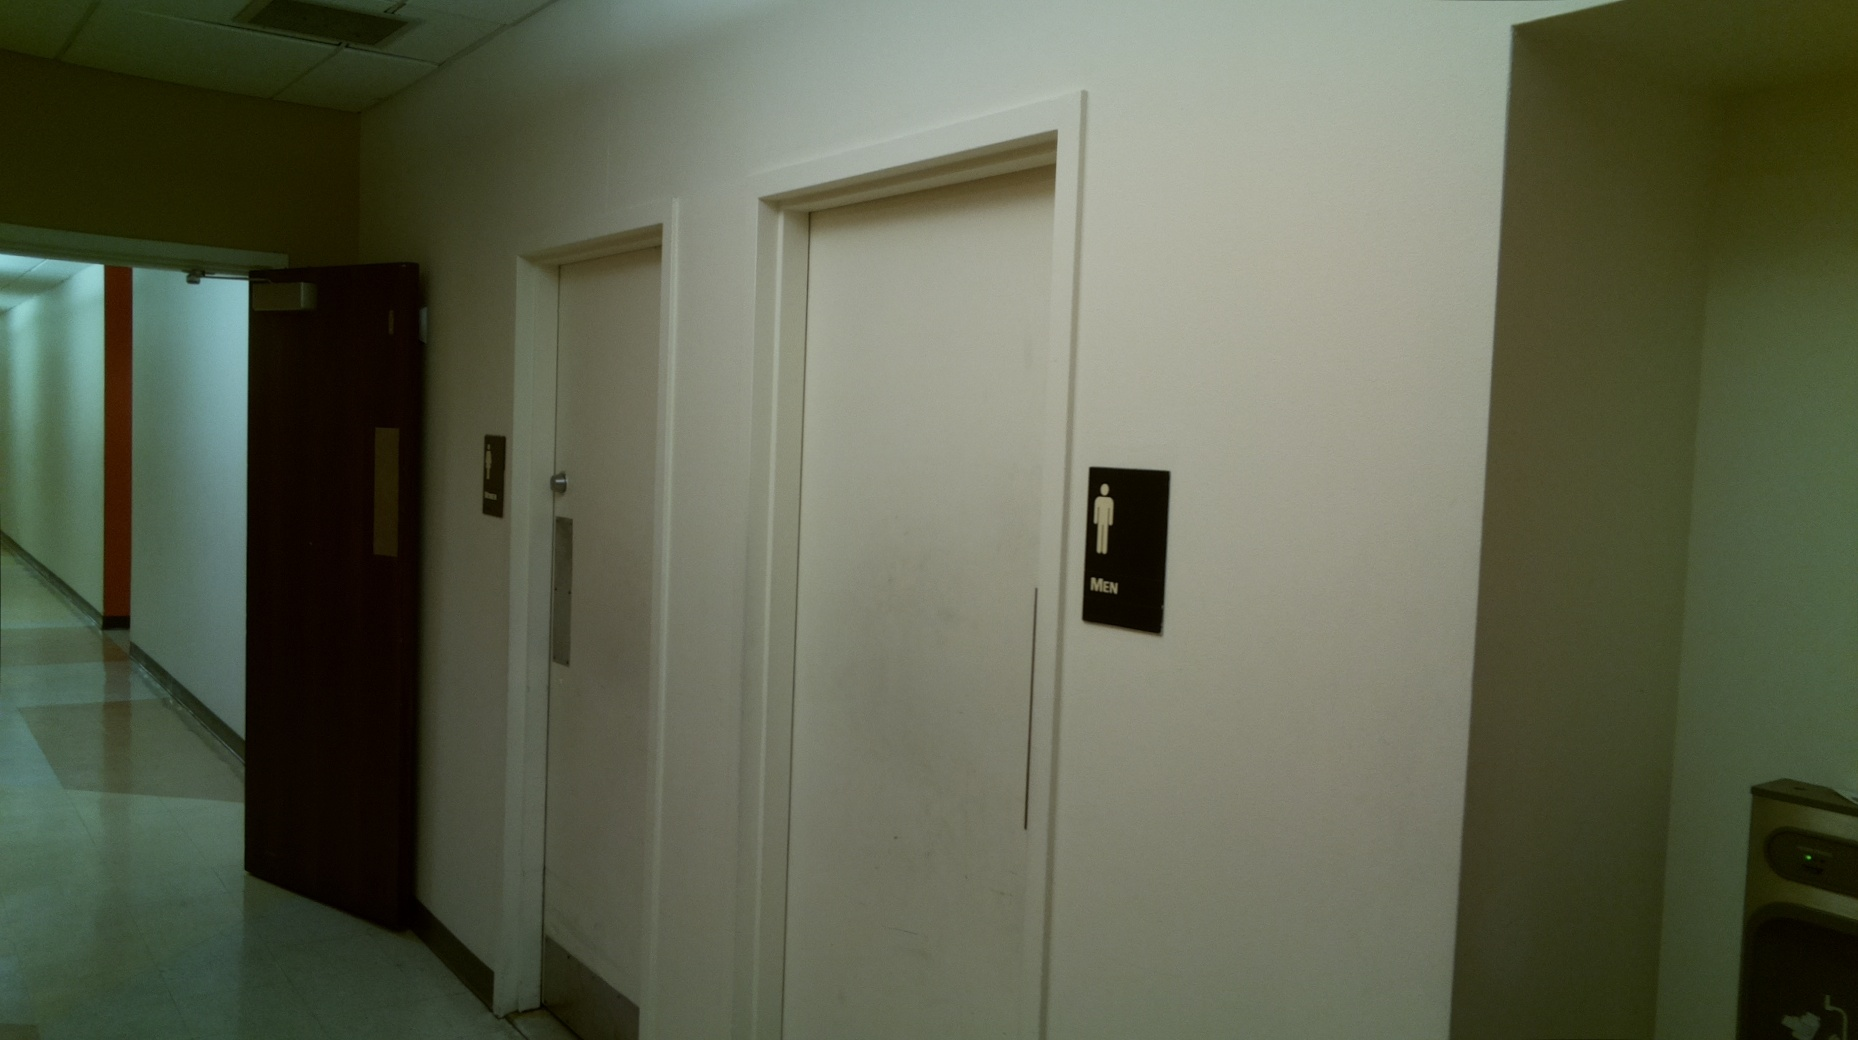bathroom sign: (1080, 463, 1171, 641), (479, 433, 508, 521)
